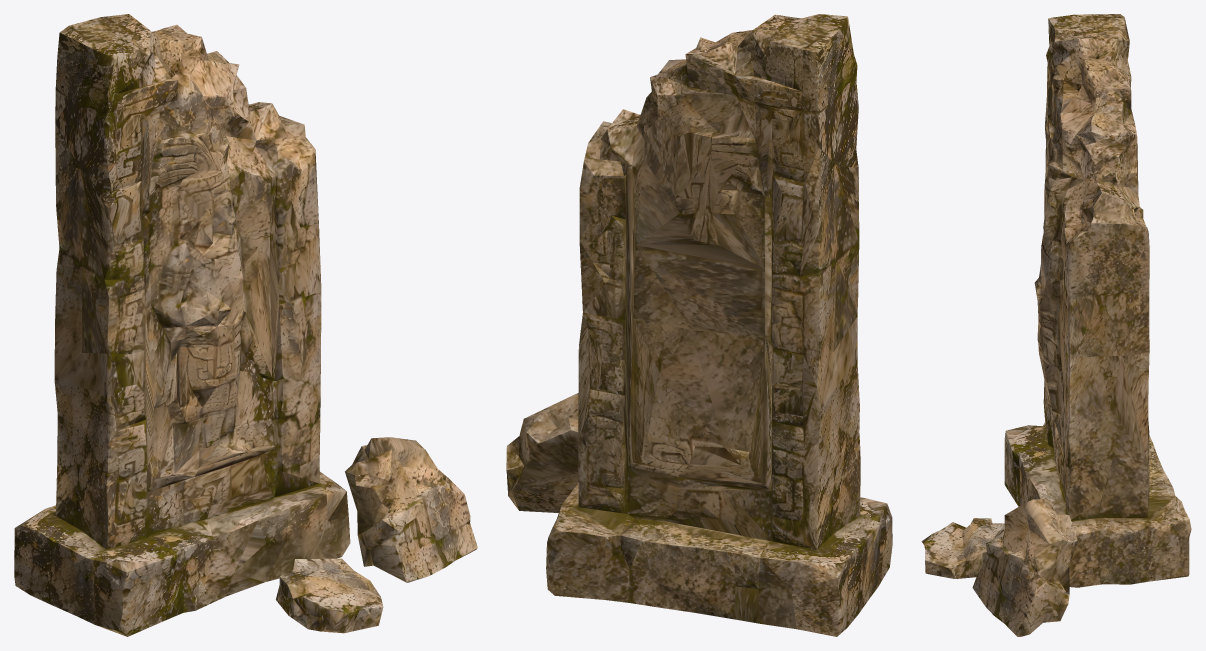
The model's file is ARQ_EstelaFragmentada_01_LOD2.fbx.
The picture shows the model from 3 angles, left to right: view 1: azimuth 30°, elevation 25°; view 2: azimuth 150°, elevation 25°; view 3: azimuth 270°, elevation 25°; orthographic projection. The views are drawn at different scales.
Parts seen in each view (by area): view 1: ARQ_EstelaFragmentada_01_Mesh000; view 2: ARQ_EstelaFragmentada_01_Mesh000; view 3: ARQ_EstelaFragmentada_01_Mesh000.
Part boxes in pixels (x1,y1,x2,y2): ARQ_EstelaFragmentada_01_Mesh000: (14,14,477,636); ARQ_EstelaFragmentada_01_Mesh000: (506,14,892,636); ARQ_EstelaFragmentada_01_Mesh000: (921,14,1191,636).
Size of the model in its own units: 1.96 by 2.7 by 1.38.
